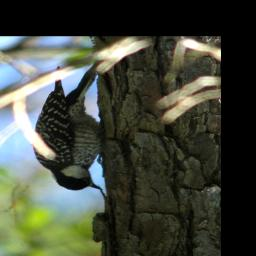Woodpecker: (31, 61, 105, 192)
